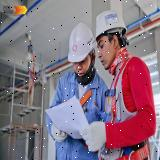Helmet: (92, 9, 129, 43), (69, 18, 96, 64)
